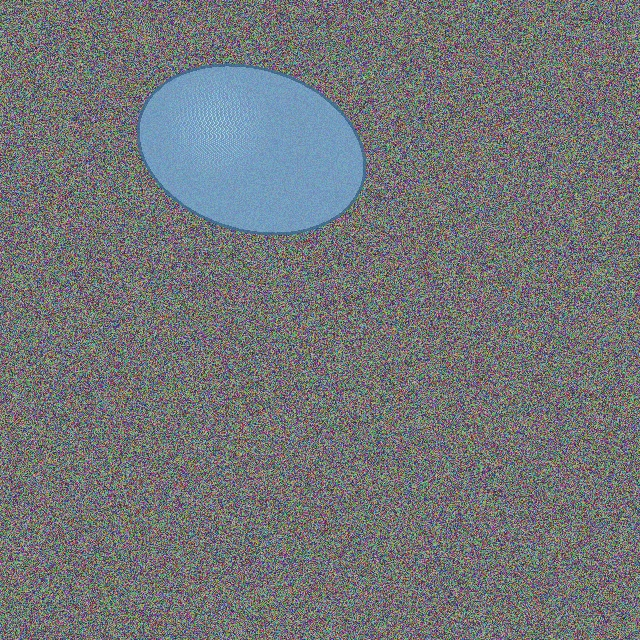lens: (138, 65, 364, 233)
